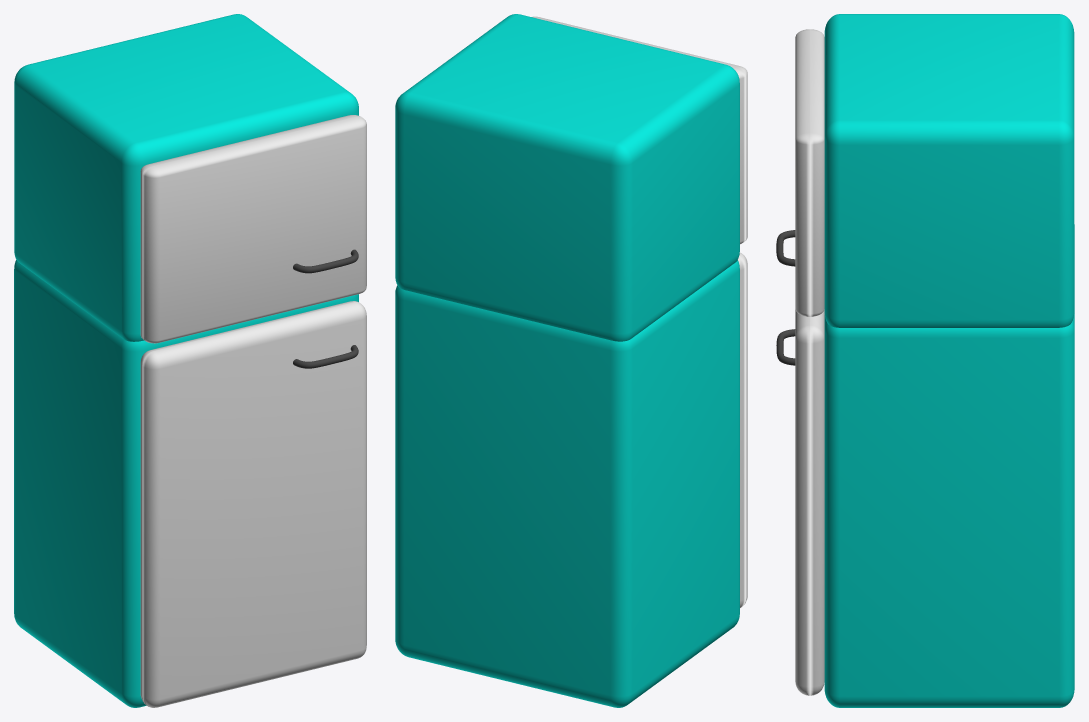
The model's file is refrigerator.fbx.
3 renders of one model, left to right at view 1: azimuth 30°, elevation 25°; view 2: azimuth 150°, elevation 25°; view 3: azimuth 270°, elevation 25°, orthographic. The views are drawn at different scales.
Parts seen in each view (by area): view 1: refrigerator; view 2: refrigerator; view 3: refrigerator.
Part boxes in pixels (box(x1,y1,x2,y2)): refrigerator: box(14, 14, 366, 707); refrigerator: box(395, 14, 747, 707); refrigerator: box(776, 14, 1074, 707).
Size of the model in its own units: 146 by 333 by 153.
